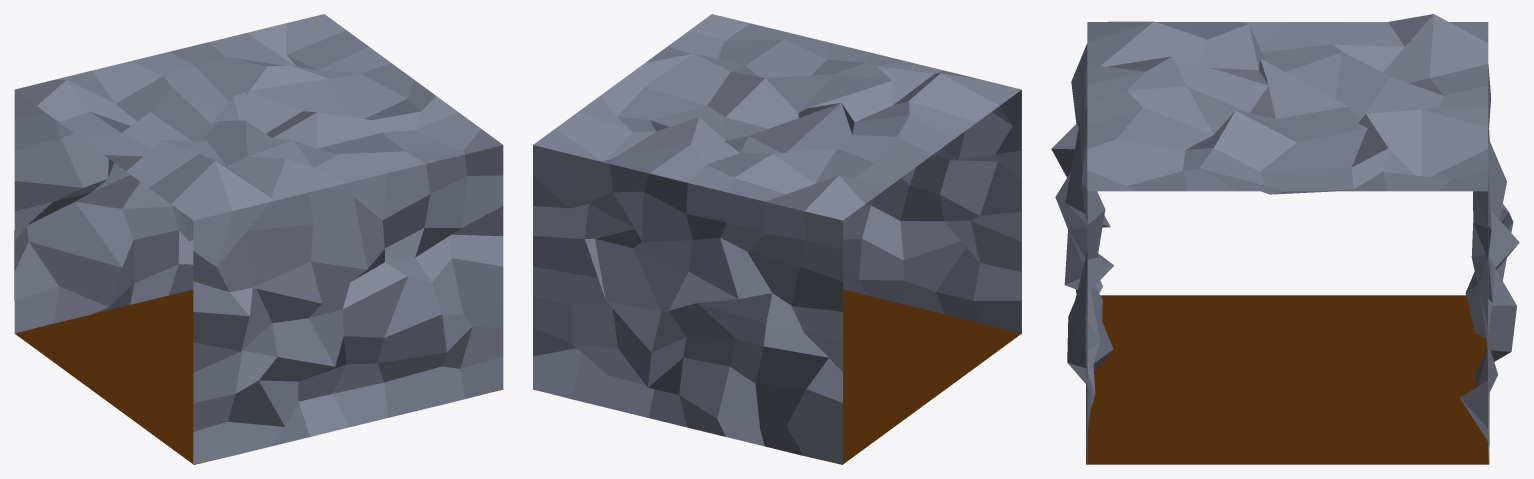
File: Cave_Corridoor.fbx
The picture shows the model from 3 angles, left to right: view 1: azimuth 30°, elevation 25°; view 2: azimuth 150°, elevation 25°; view 3: azimuth 270°, elevation 25°; orthographic projection. The views are drawn at different scales.
Parts seen in each view (by area): view 1: Plane.002, Plane, Plane.003, Plane.001; view 2: Plane.003, Plane, Plane.002, Plane.001; view 3: Plane, Plane.001, Plane.002, Plane.003.
Boxes of the visible parts, <box> form: Plane.002: <box>193,145,503,464</box>; Plane: <box>15,14,502,220</box>; Plane.003: <box>14,14,323,333</box>; Plane.001: <box>14,289,503,464</box>; Plane.003: <box>533,145,842,464</box>; Plane: <box>533,14,1021,220</box>; Plane.002: <box>774,29,1021,333</box>; Plane.001: <box>533,289,1021,464</box>; Plane: <box>1087,14,1488,194</box>; Plane.001: <box>1086,295,1489,464</box>; Plane.002: <box>1051,22,1114,464</box>; Plane.003: <box>1459,25,1519,464</box>.
Bounding box in the file's own units: 1600 × 1332 × 1870.
